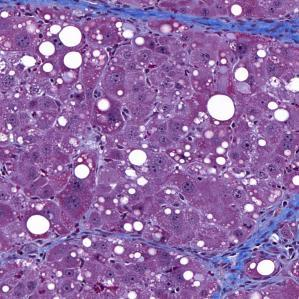fibrosis: (137, 8, 293, 45), (231, 191, 296, 257)
